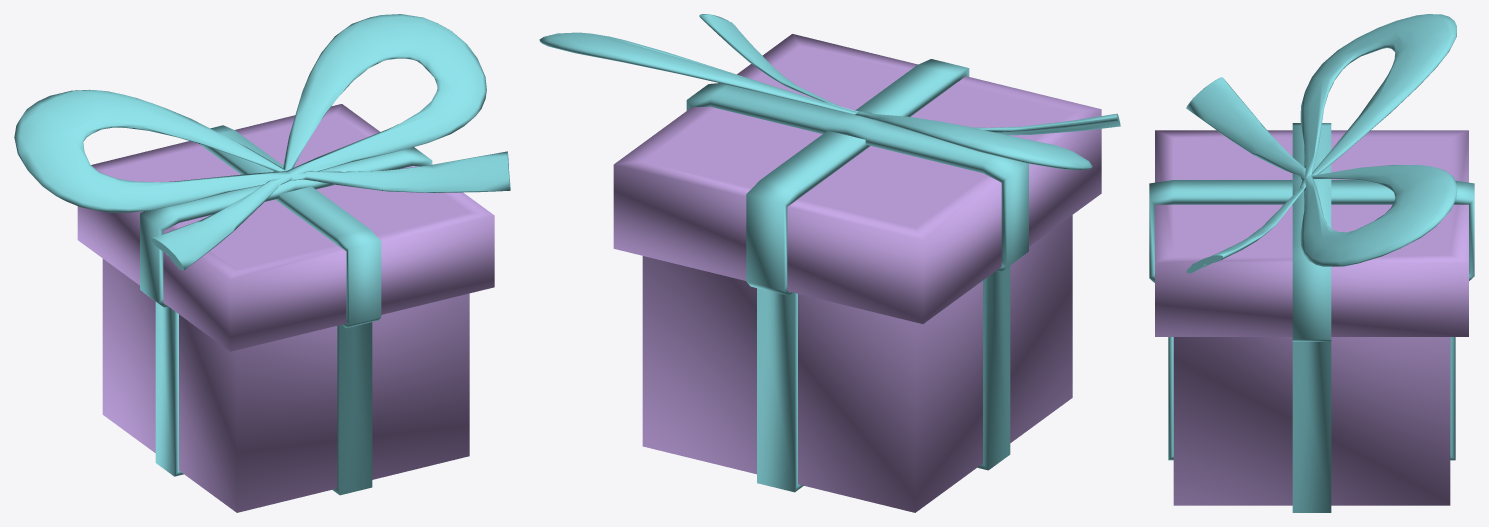
The model's file is Regalo 1.fbx.
The picture shows the model from 3 angles, left to right: view 1: azimuth 30°, elevation 25°; view 2: azimuth 150°, elevation 25°; view 3: azimuth 270°, elevation 25°; orthographic projection. The views are drawn at different scales.
Parts seen in each view (by area): view 1: Regalo; view 2: Regalo; view 3: Regalo.
Part boxes in pixels (x1,y1,x2,y2): Regalo: (14,14,510,512); Regalo: (539,14,1120,512); Regalo: (1149,14,1474,512).
Bounding box in the file's own units: 387 × 275 × 235.
